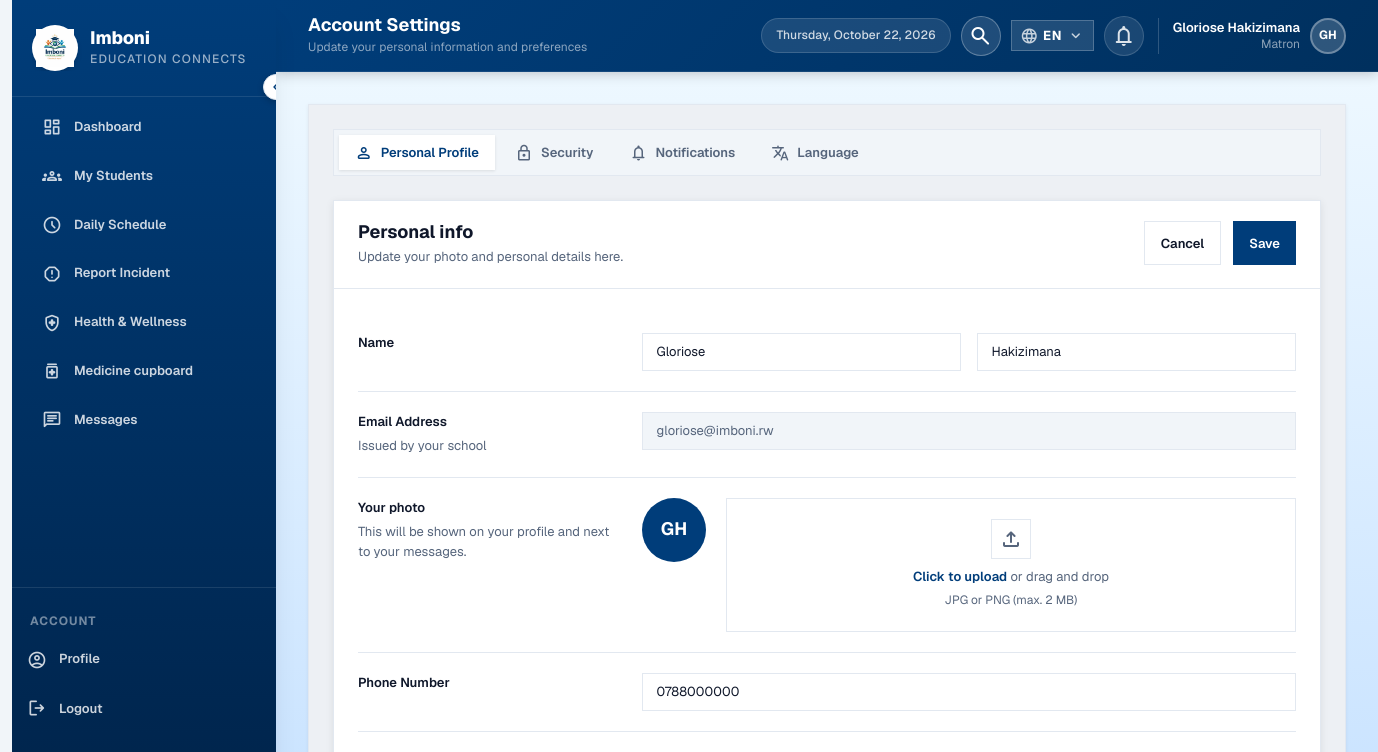
Test case: Account › saves profile edits
Expected: the field showing "Gloriose" is shown, [642,333,961,371]
Replace the text in the field showing "0788000000" with "0788111111" at (969, 692), box [642,672,1296,711]
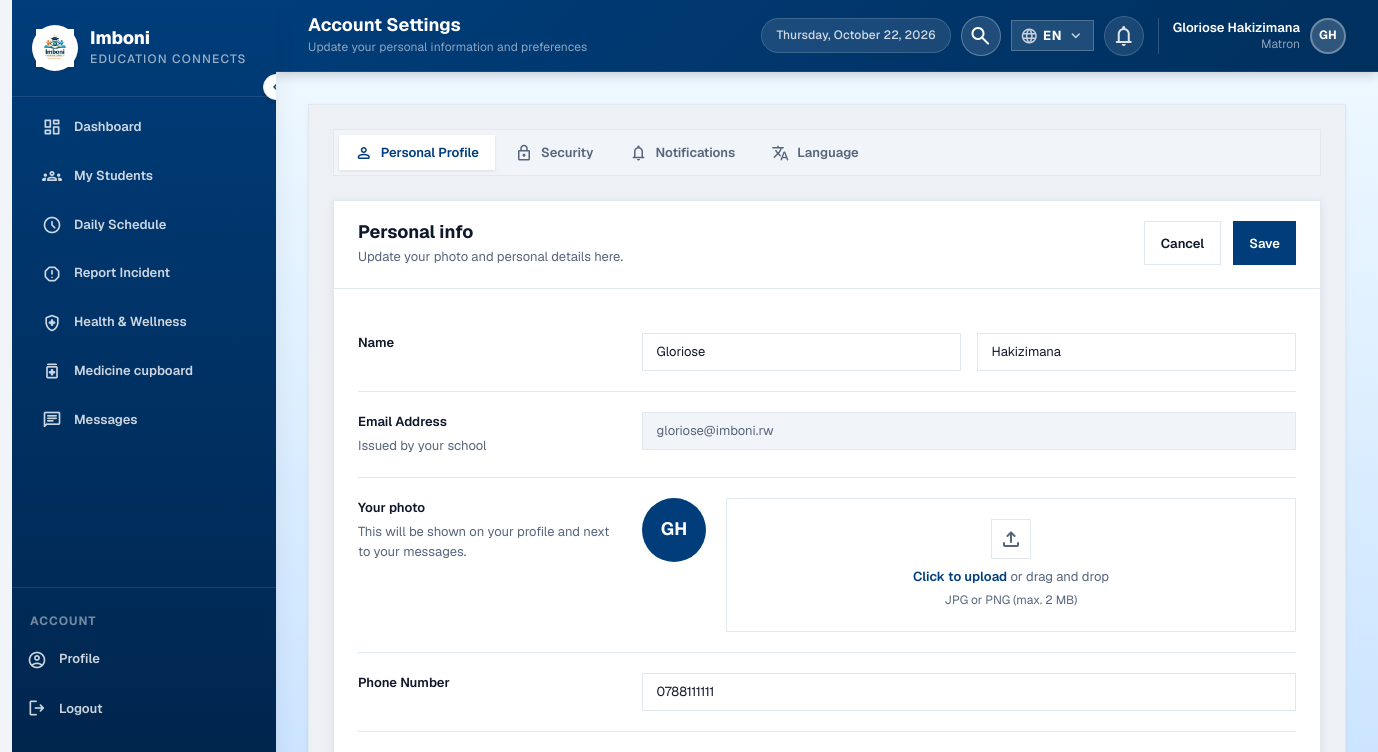
Click the button "Save" at (1265, 243), box [1233,221,1296,265]
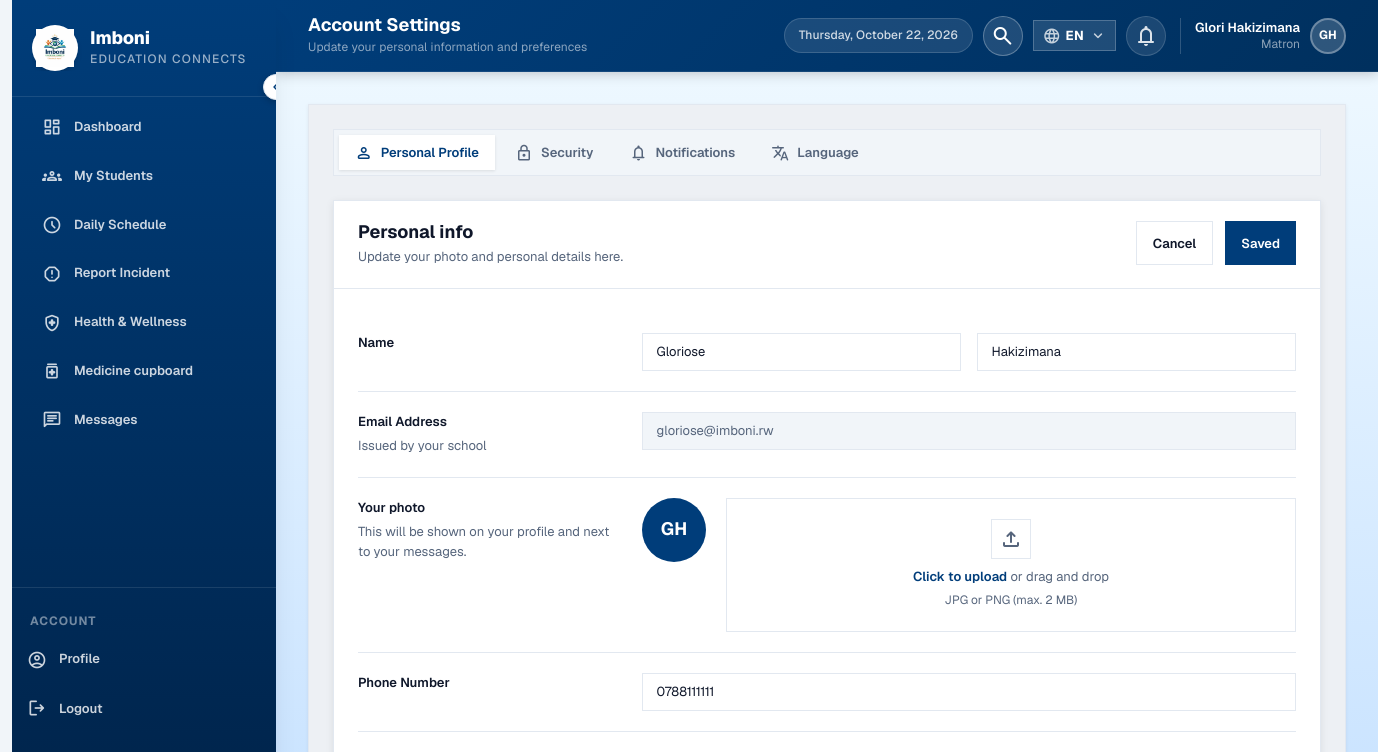
Expected: the button "Saved" is shown, [1225,221,1296,265]
